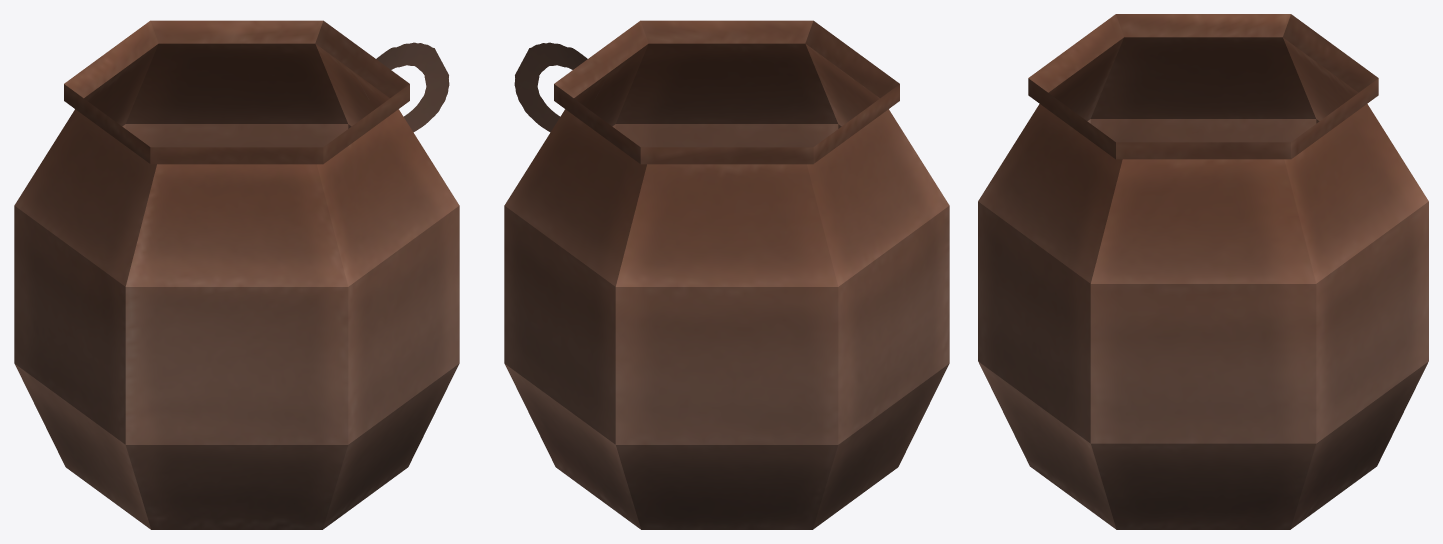
Rendered from Jug_1.fbx.
3 views of the same model, side by side, from view 1: azimuth 30°, elevation 25°; view 2: azimuth 150°, elevation 25°; view 3: azimuth 270°, elevation 25° (orthographic).
Visible parts, largest first — view 1: Jug_1; view 2: Jug_1; view 3: Jug_1.
Boxes of the visible parts, box(x1,y1,x2,y2) form: Jug_1: box(14, 20, 459, 529); Jug_1: box(504, 20, 949, 529); Jug_1: box(978, 14, 1428, 529).
Size of the model in its own units: 23.92 by 23.55 by 23.2.
